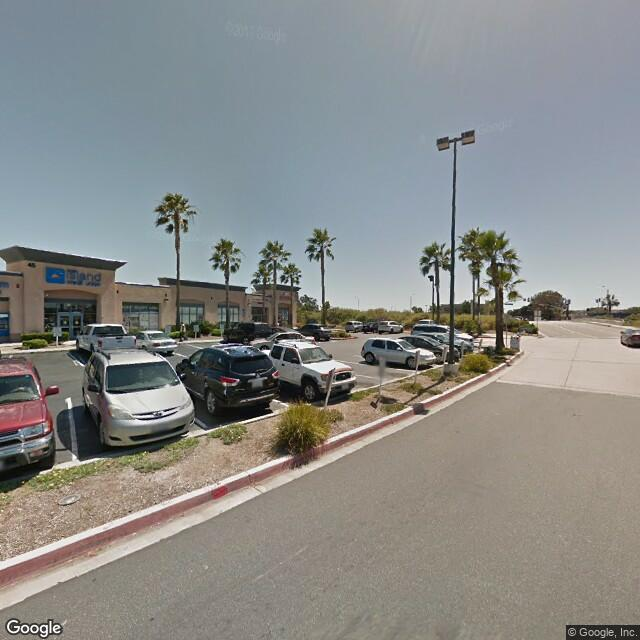litter: (57, 494, 80, 506)
